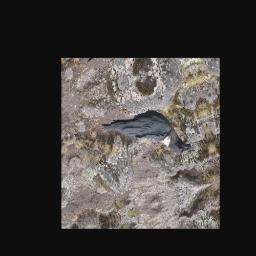Crow: (99, 94, 193, 179)
